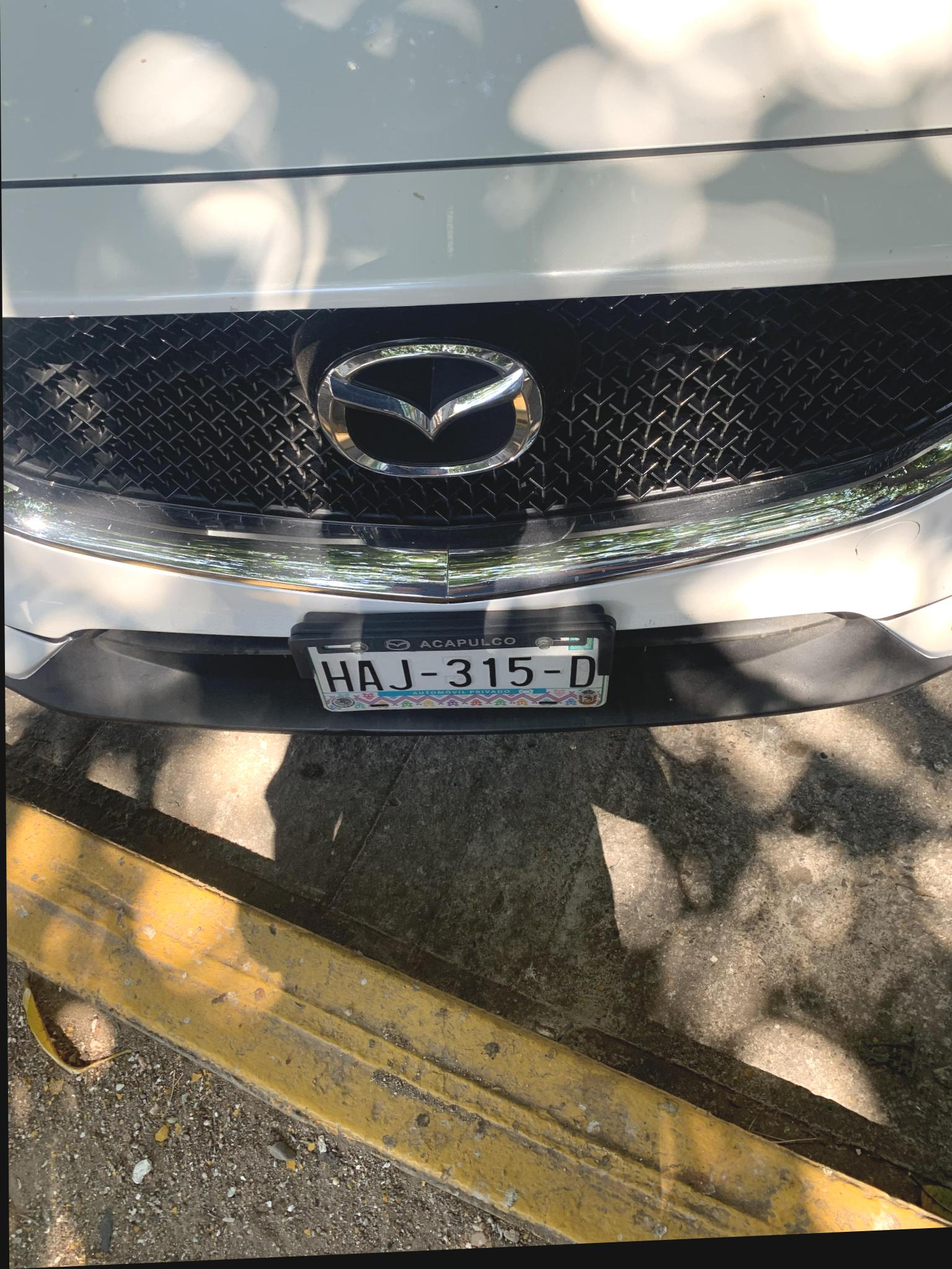License_Plate: (268, 586, 635, 747)
